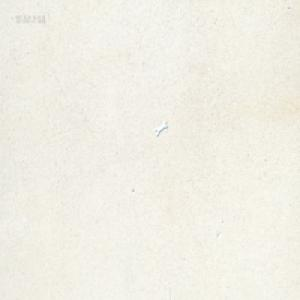Wrench: (154, 121, 168, 136)
